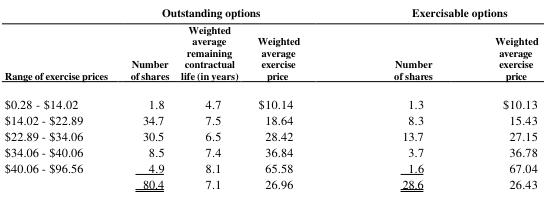table: (3, 3, 537, 191)
table column: (346, 3, 463, 191), (3, 3, 118, 191), (247, 3, 346, 191), (463, 3, 537, 191), (174, 3, 247, 191), (118, 3, 174, 191)
table column header: (3, 3, 537, 88)
table row: (3, 20, 537, 88), (3, 88, 537, 110), (3, 3, 537, 20), (3, 110, 537, 127), (3, 127, 537, 143), (3, 143, 537, 159), (3, 159, 537, 175), (3, 175, 537, 191)
table spanning cell: (3, 3, 118, 88), (118, 3, 346, 20), (346, 3, 537, 20)
